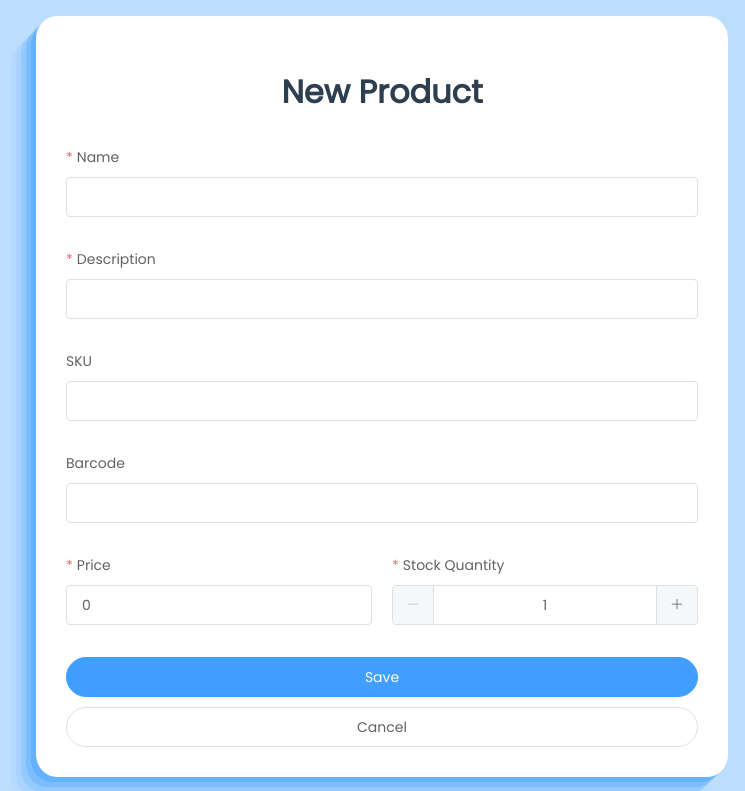
Test case: Create Product › invalid barcode length
Type "11111111111111" into the field below "Barcode" at (382, 503), box [66, 483, 698, 523]
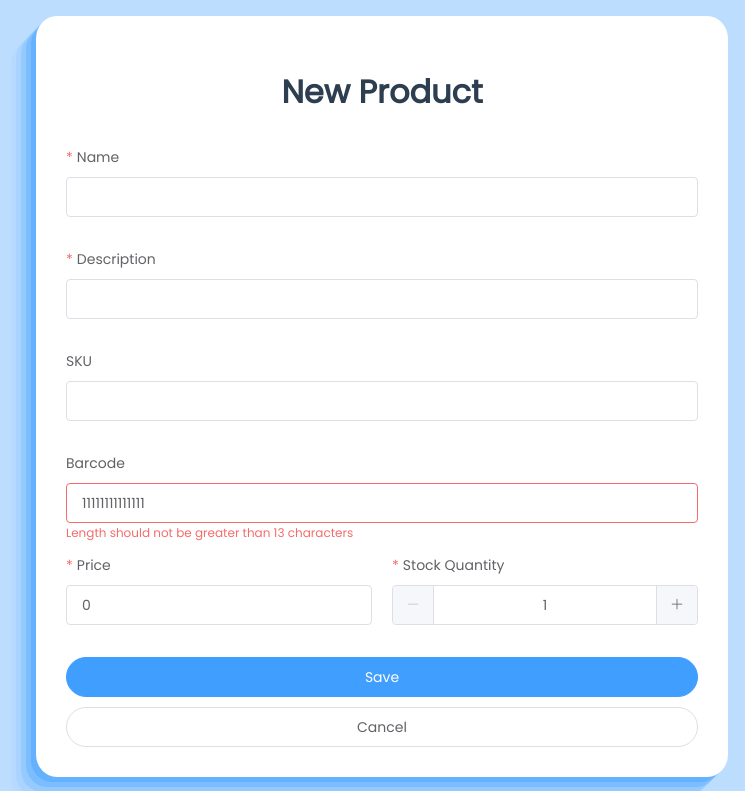
Check: the text "Length should not be greater than 13 characters" is shown, box [66, 523, 353, 539]
